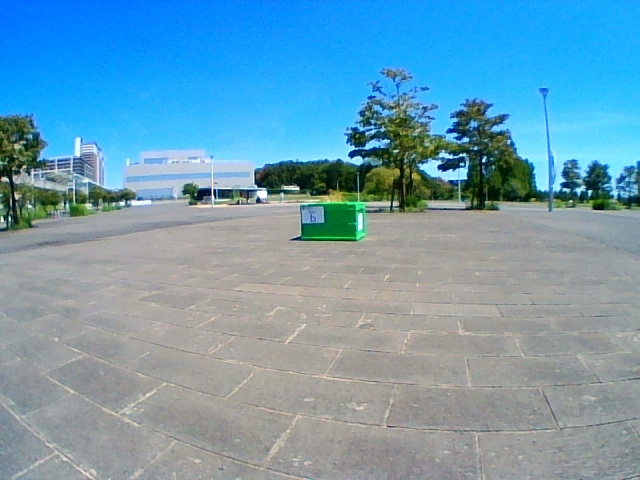green_box: (300, 202, 364, 239)
tag_b: (300, 206, 322, 223)
